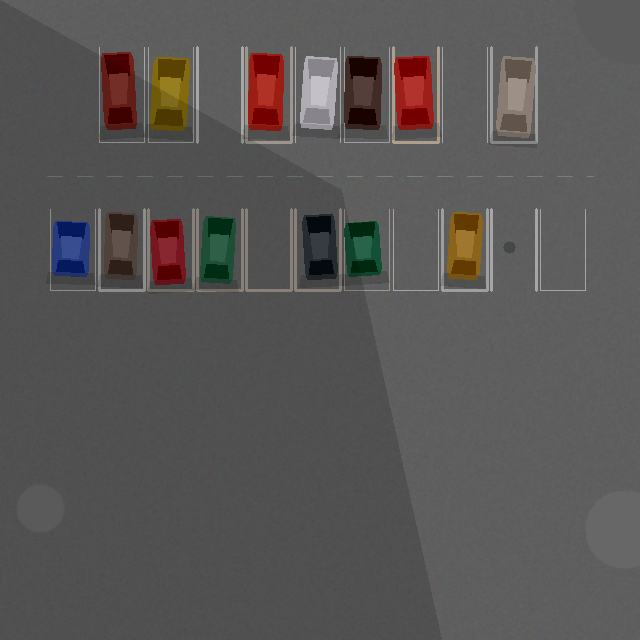space-empty: (197, 47, 242, 142), (442, 47, 487, 142), (246, 209, 291, 290), (393, 209, 438, 290), (491, 209, 536, 290), (540, 209, 585, 290)
space-occupied: (99, 47, 144, 142), (148, 47, 193, 142), (246, 47, 291, 142), (295, 47, 340, 142), (344, 47, 389, 142), (393, 47, 438, 142), (491, 47, 536, 142), (50, 209, 95, 290), (99, 209, 144, 290), (148, 209, 193, 290), (197, 209, 242, 290), (295, 209, 340, 290), (344, 209, 389, 290), (442, 209, 487, 290)
